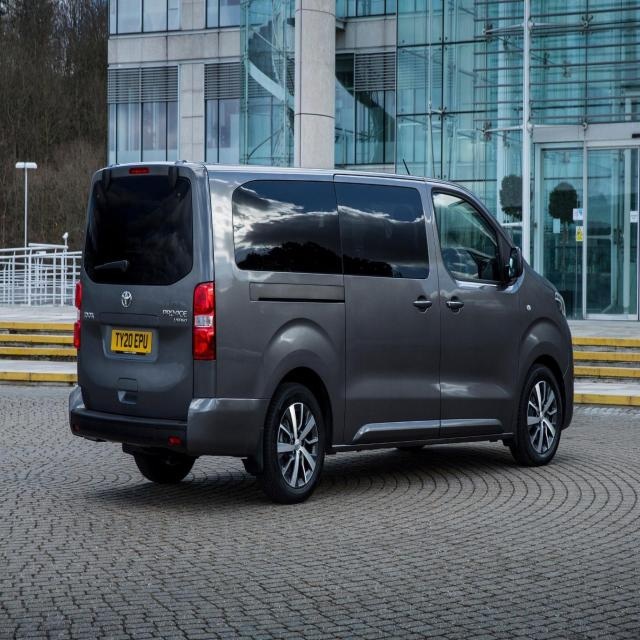Van: (71, 170, 555, 472)
